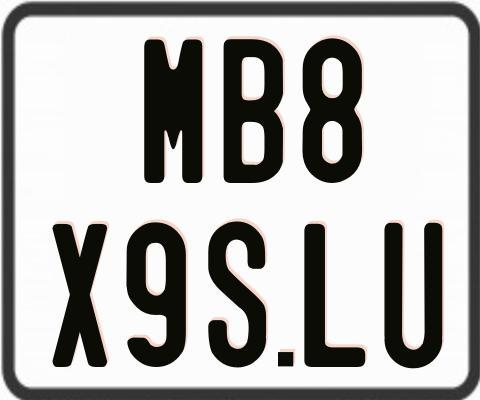8: (299, 38, 360, 183)
9: (125, 222, 191, 368)
B: (223, 36, 284, 183)
L: (303, 223, 370, 372)
M: (142, 39, 204, 189)
S: (205, 220, 265, 372)
U: (381, 222, 441, 373)
X: (50, 224, 107, 370)
